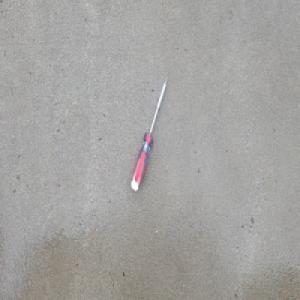Screwdriver: (130, 74, 169, 193)
